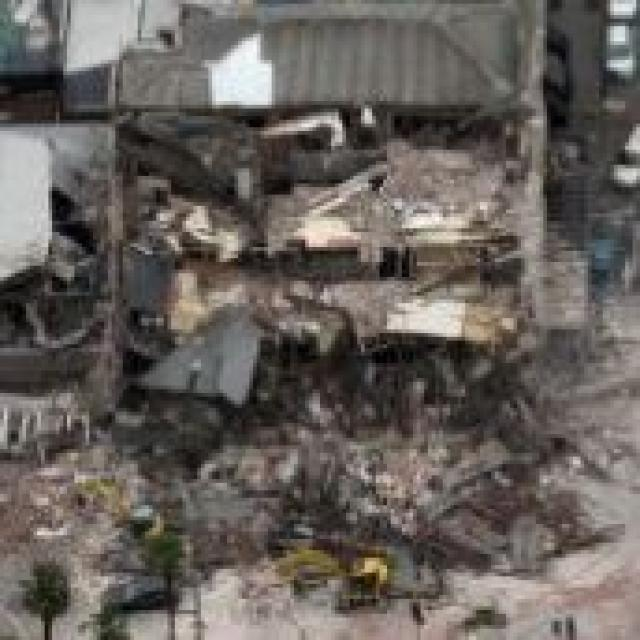collapsed_building: (104, 4, 540, 486), (0, 124, 112, 472)
